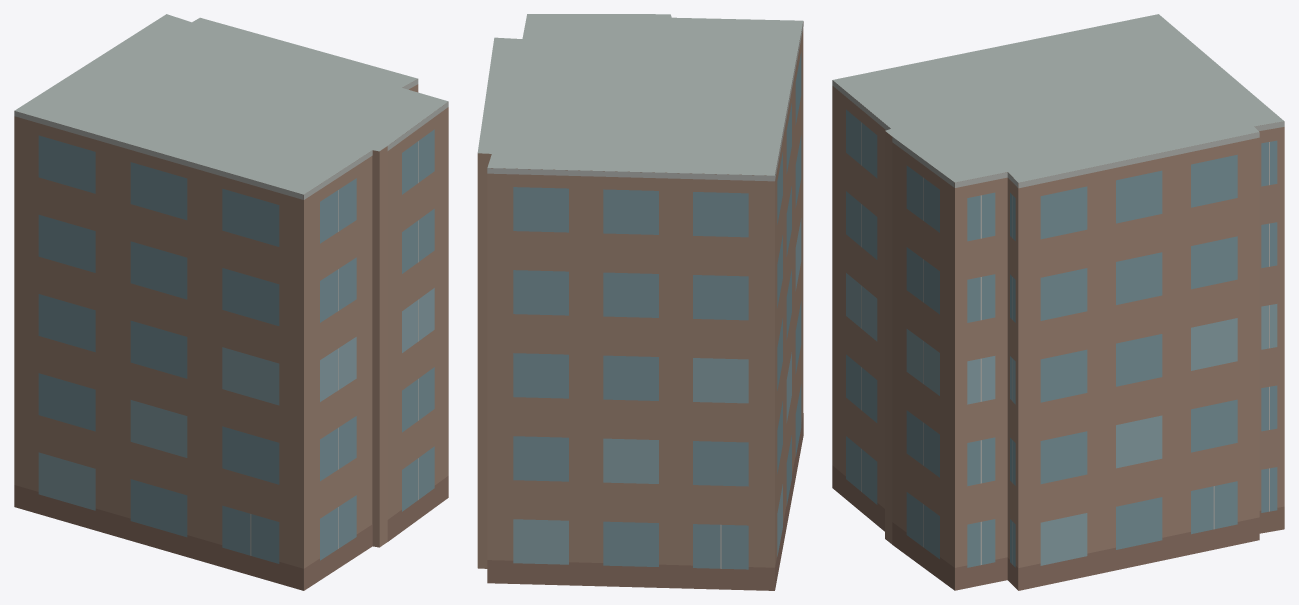
The model's file is survey-upis-32460428.glb.
3 renders of one model, left to right at view 1: azimuth 30°, elevation 25°; view 2: azimuth 150°, elevation 25°; view 3: azimuth 270°, elevation 25°, orthographic. The views are drawn at different scales.
Visible parts, largest first — view 1: survey-upis-32460428.tmp; view 2: survey-upis-32460428.tmp; view 3: survey-upis-32460428.tmp.
Part boxes in pixels (x1,y1,x2,y2): survey-upis-32460428.tmp: (14,14,448,590); survey-upis-32460428.tmp: (477,14,803,590); survey-upis-32460428.tmp: (832,14,1284,590).
Bounding box in the file's own units: 15.85 × 17.86 × 17.94.
